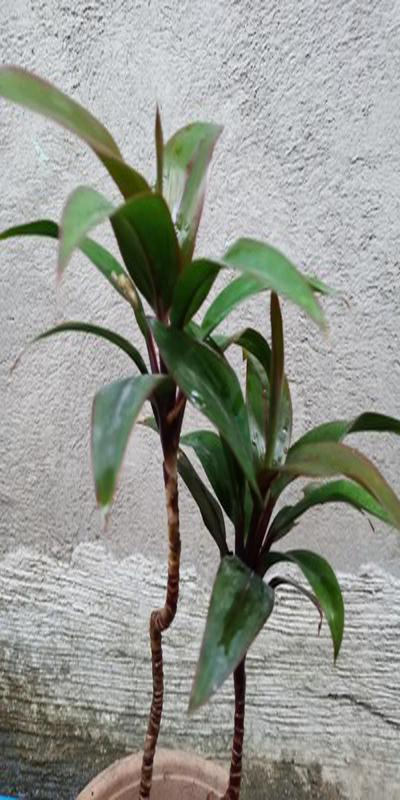Baston de san jose: (28, 80, 390, 777)
